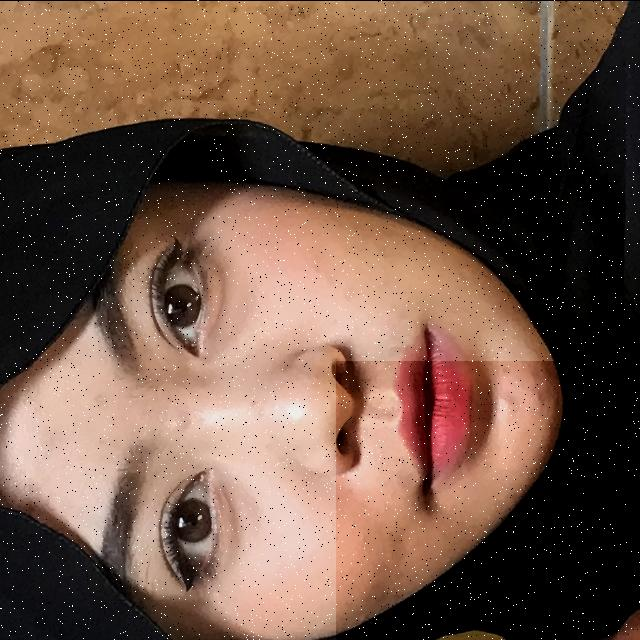kamu: (336, 360, 640, 640)
